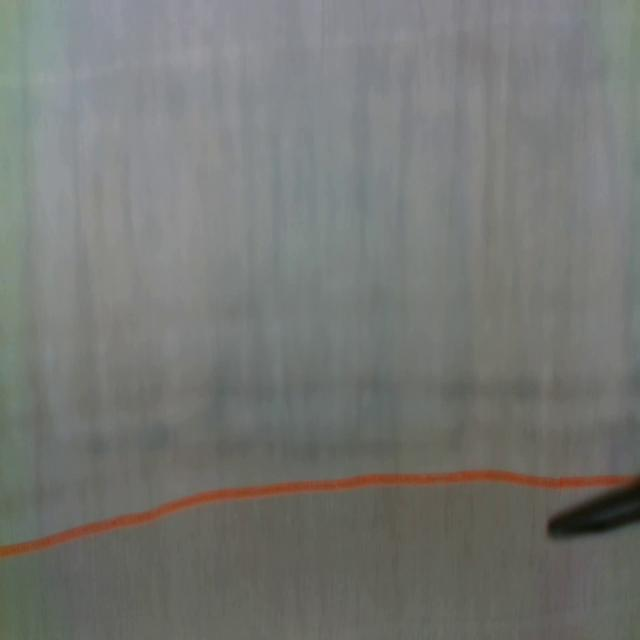color bleeding: (2, 366, 639, 463)
